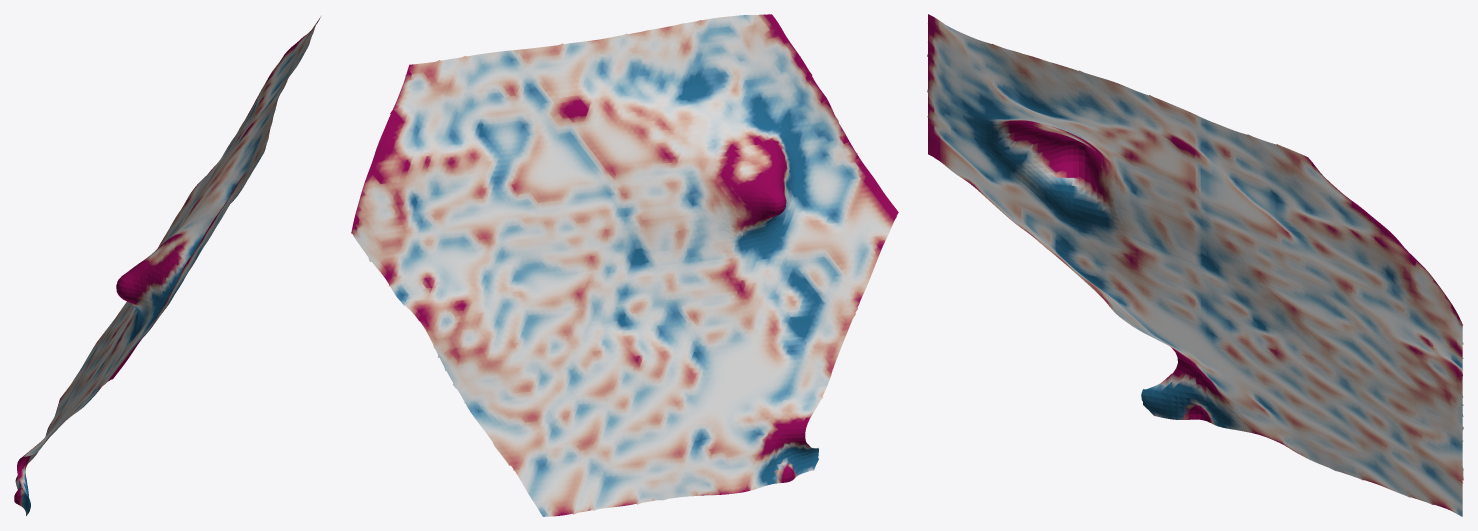
Rendered from crop1121_deviation.glb.
3 renders of one model, left to right at view 1: azimuth 30°, elevation 25°; view 2: azimuth 150°, elevation 25°; view 3: azimuth 270°, elevation 25°, orthographic. The views are drawn at different scales.
Visible parts, largest first — view 1: world; view 2: world; view 3: world.
Part boxes in pixels (box(x1,y1,x2,y2)): world: box(14, 17, 320, 515); world: box(351, 14, 898, 516); world: box(927, 14, 1463, 516).
Bounding box in the file's own units: 1478 × 1479 × 1479.
